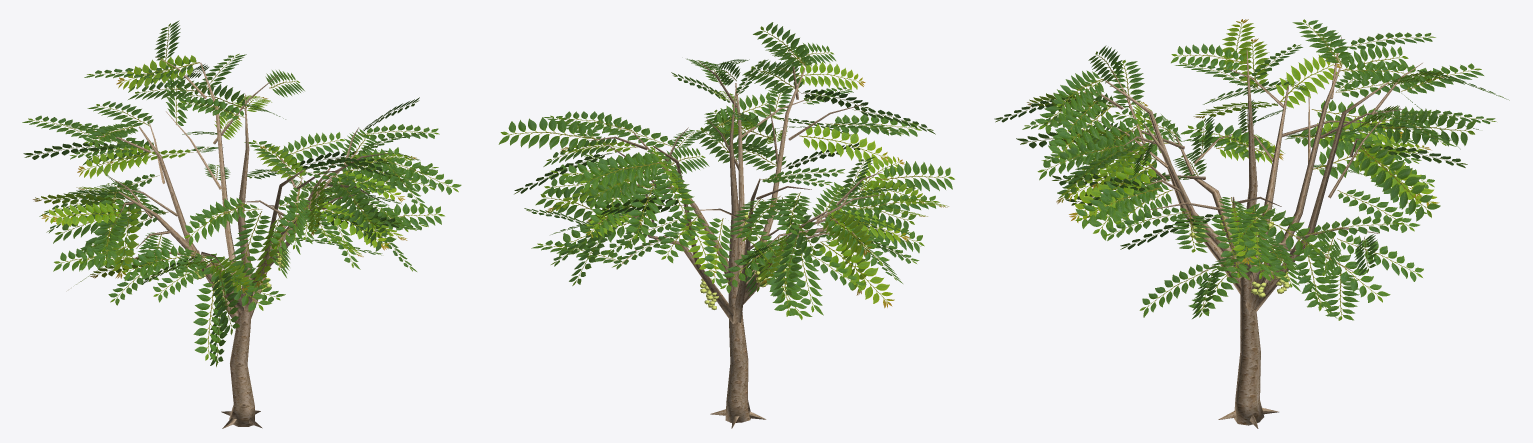
File: StarGooseberryTree_LOD1.fbx
3 renders of one model, left to right at view 1: azimuth 30°, elevation 25°; view 2: azimuth 150°, elevation 25°; view 3: azimuth 270°, elevation 25°, orthographic. The views are drawn at different scales.
Parts seen in each view (by area): view 1: Leaves_LOD1, Bark_LOD1; view 2: Leaves_LOD1, Bark_LOD1; view 3: Leaves_LOD1, Bark_LOD1, Fruit_LOD1.
Part boxes in pixels (x1,y1,x2,y2): Leaves_LOD1: (22, 20, 461, 366); Bark_LOD1: (87, 56, 390, 428); Leaves_LOD1: (498, 22, 954, 319); Bark_LOD1: (589, 50, 884, 428); Leaves_LOD1: (994, 19, 1509, 320); Bark_LOD1: (1077, 36, 1422, 428); Fruit_LOD1: (1189, 221, 1289, 297).
Size of the model in its own units: 643 by 495 by 627.
